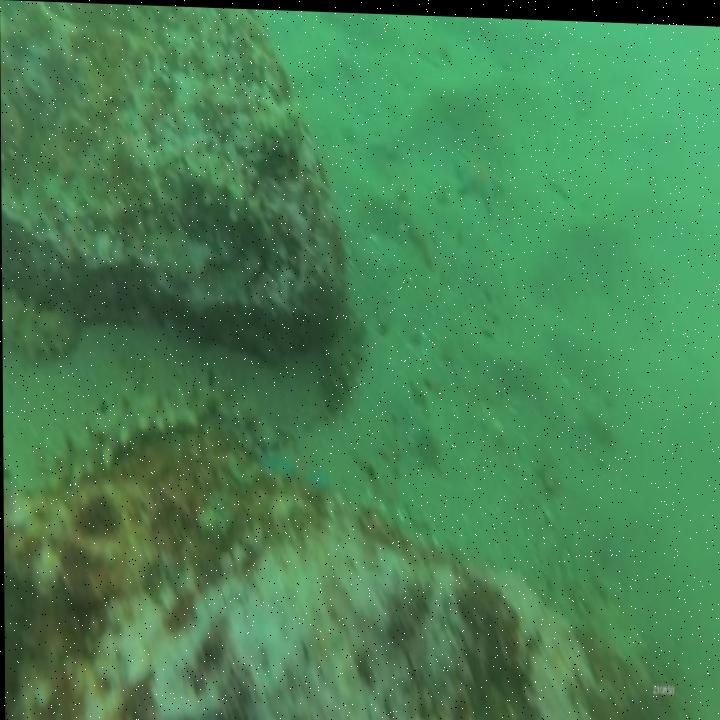holothurian: (43, 369, 212, 488), (181, 158, 273, 251), (2, 286, 81, 368), (319, 295, 368, 414), (249, 89, 305, 165)
starfish: (258, 429, 337, 500), (458, 150, 506, 210)
